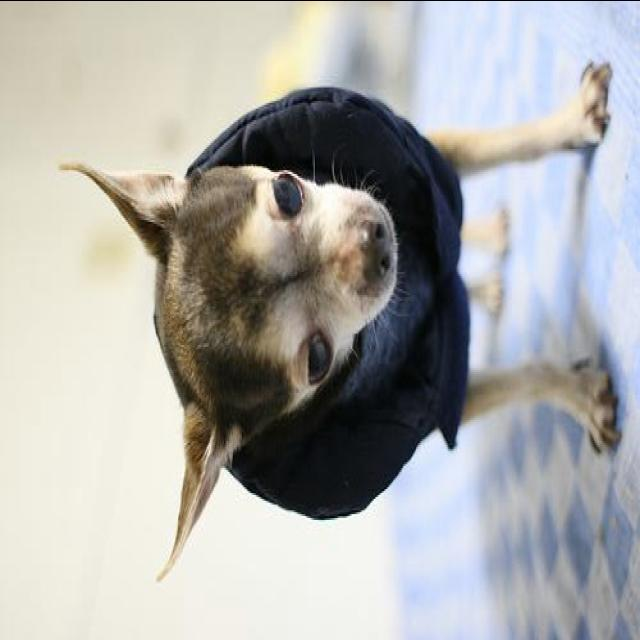chihuahua: (54, 56, 624, 590)
